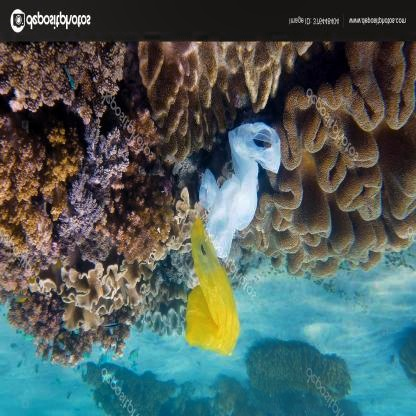pbag: (198, 121, 281, 258), (186, 217, 240, 355)
